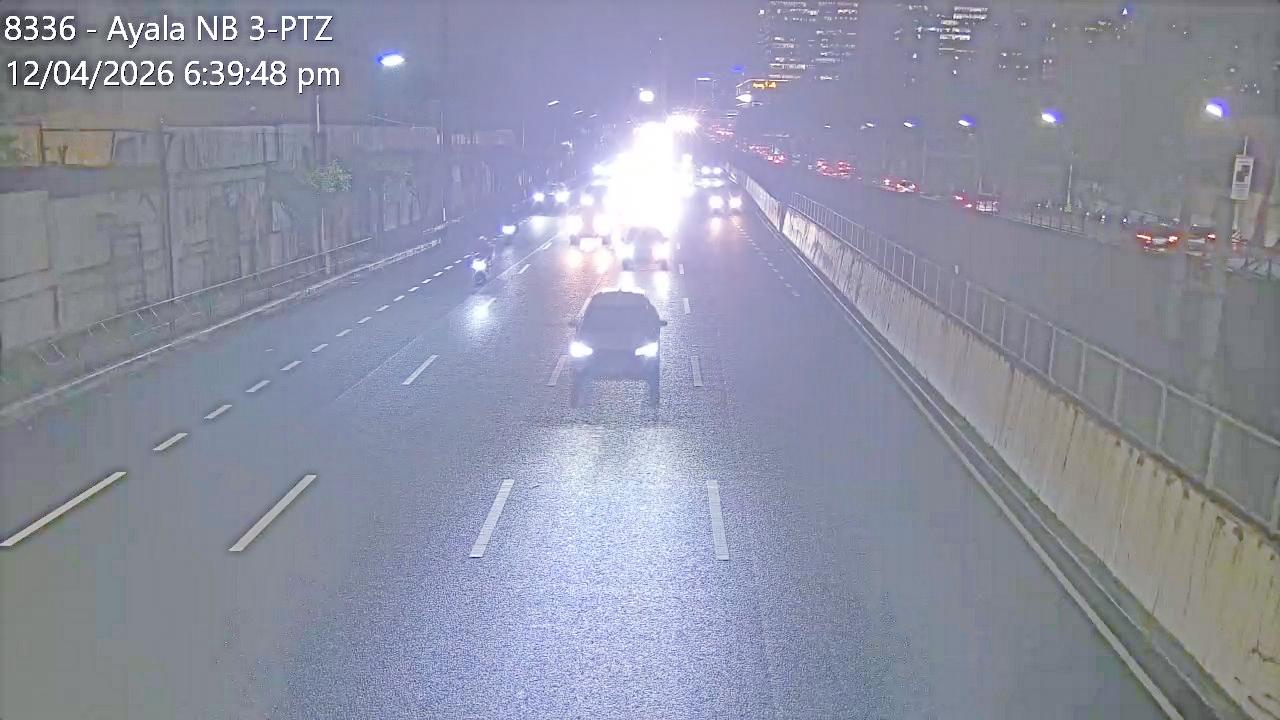Car: (576, 292, 660, 397), (617, 224, 672, 272), (696, 166, 742, 216), (570, 202, 614, 248), (536, 182, 570, 211), (584, 180, 612, 212)
Motor: (468, 231, 492, 286), (496, 221, 516, 246)
Not Accident: (572, 186, 611, 244)
